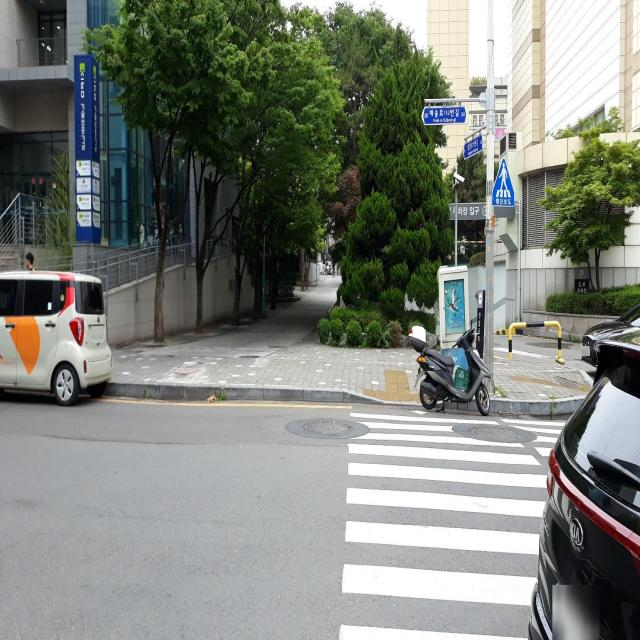횡단보도: (337, 403, 569, 640)
